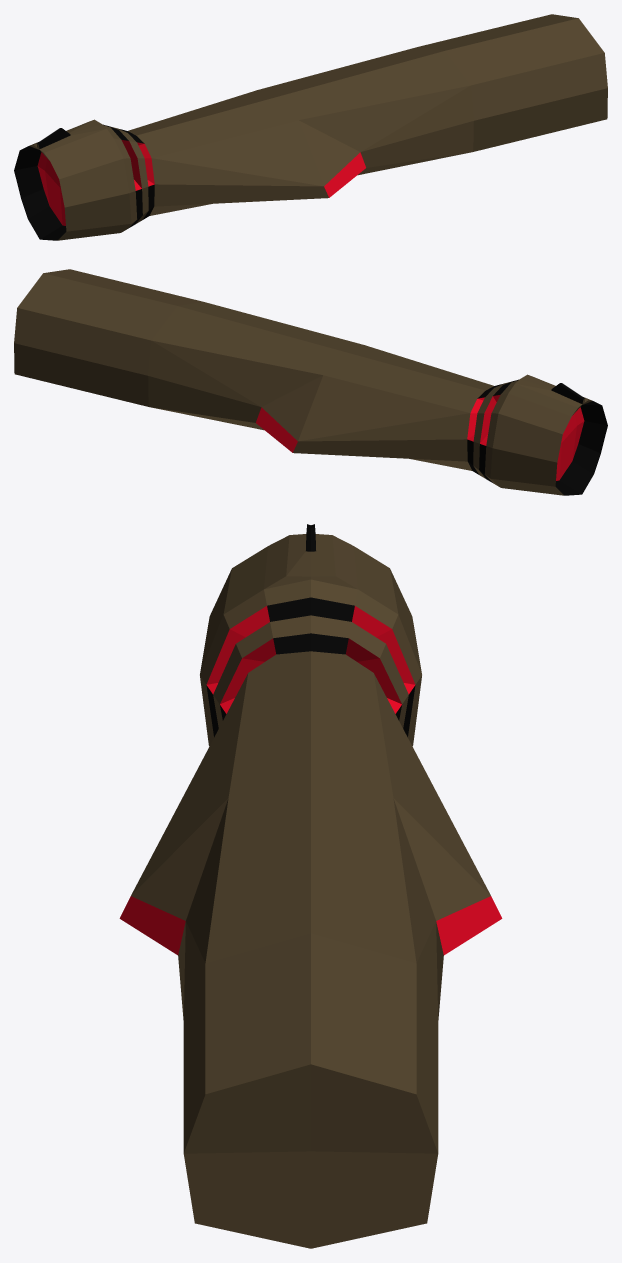
Rendered from RocketLauncher_02.glb.
3 renders of one model, top to bottom at view 1: azimuth 30°, elevation 25°; view 2: azimuth 150°, elevation 25°; view 3: azimuth 270°, elevation 25°, orthographic. The views are drawn at different scales.
Visible parts, largest first — view 1: Cube; view 2: Cube; view 3: Cube.
Boxes of the visible parts, x1,y1,x2,y2 form: Cube: [14, 14, 607, 240]; Cube: [14, 269, 607, 495]; Cube: [119, 524, 502, 1248].
Size of the model in its own units: 2.78 by 0.5584 by 0.8533.
